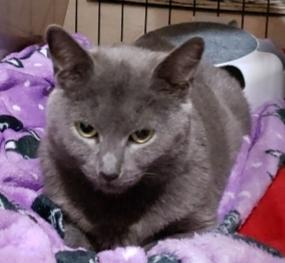rblue: (33, 12, 220, 208)
